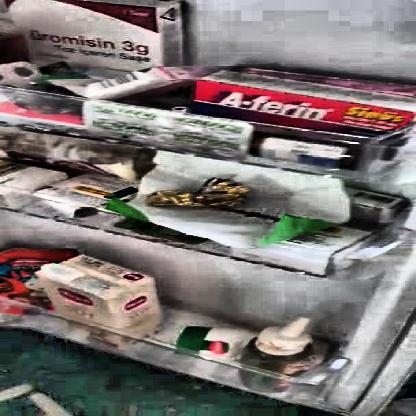milk: (44, 256, 162, 335)
